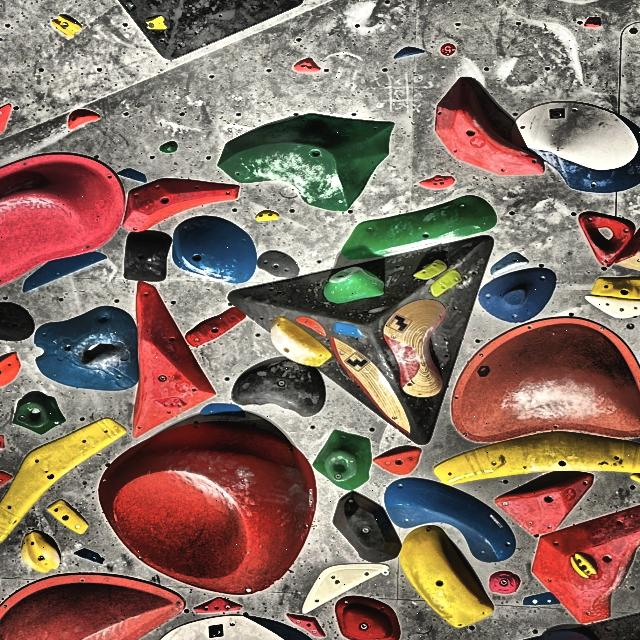Hold: (453, 317, 640, 442), (0, 419, 125, 543), (533, 507, 640, 625), (133, 282, 213, 436), (383, 477, 516, 563), (434, 431, 640, 486), (517, 101, 640, 191), (436, 78, 545, 175), (342, 196, 497, 262), (399, 525, 494, 628), (34, 307, 137, 391), (331, 336, 410, 434), (383, 296, 447, 398), (122, 177, 238, 233), (495, 474, 595, 537), (171, 216, 258, 284), (232, 357, 326, 417), (333, 491, 401, 563), (303, 561, 389, 614), (481, 271, 555, 323), (313, 431, 372, 491), (22, 252, 104, 291), (270, 316, 330, 368), (579, 212, 635, 266), (335, 597, 400, 640), (122, 229, 171, 282), (185, 308, 245, 348), (324, 265, 384, 304), (12, 392, 65, 434), (20, 531, 60, 574), (46, 500, 87, 535), (0, 302, 34, 343), (373, 446, 421, 475), (586, 294, 640, 318), (257, 250, 299, 278), (591, 277, 640, 300), (286, 615, 325, 640), (491, 252, 529, 275), (192, 598, 242, 615), (431, 269, 462, 296), (50, 13, 82, 38), (570, 553, 600, 579), (489, 571, 521, 595), (67, 108, 100, 130), (0, 352, 20, 388), (415, 258, 448, 279), (199, 403, 245, 418), (296, 316, 326, 337), (419, 174, 456, 190), (74, 548, 104, 565), (524, 594, 561, 607), (333, 322, 363, 337), (293, 57, 321, 73), (394, 46, 425, 59), (144, 14, 167, 30), (255, 210, 279, 222), (158, 140, 178, 154), (583, 15, 603, 28), (0, 471, 12, 489)
Macro: (99, 416, 316, 596), (219, 114, 394, 211), (0, 153, 126, 284), (0, 574, 183, 640), (161, 614, 311, 640)
Volume: (229, 244, 487, 442), (118, 0, 299, 61)
